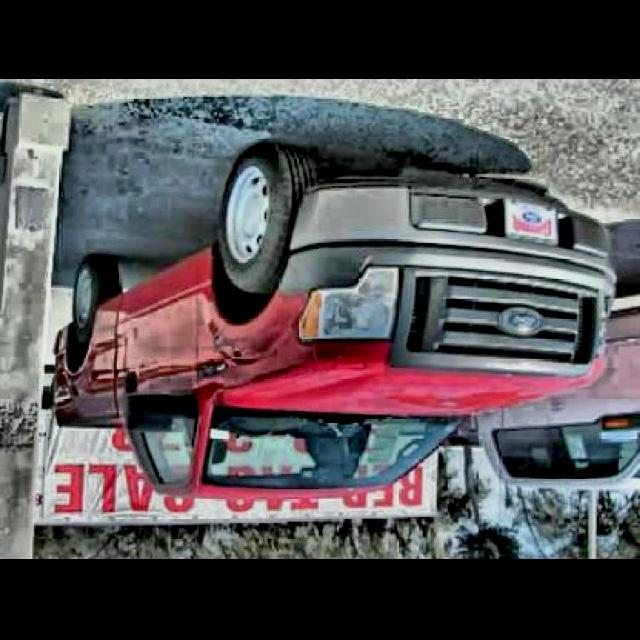red: (52, 146, 614, 502)
